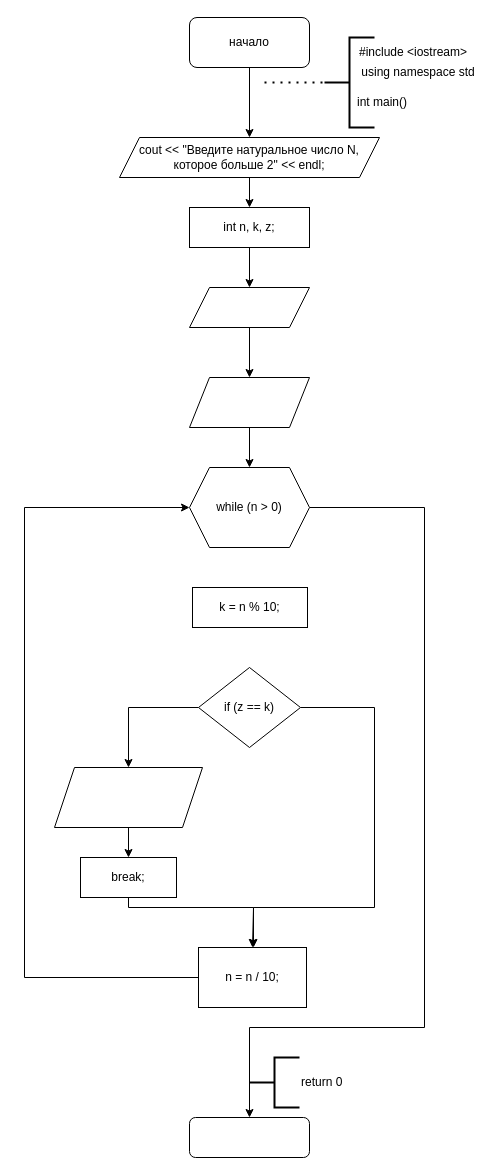
Image size: 502x1175. Some labels were removed from this diagram. The shapes that lost their labels are listed below. From the top down, each one's centre as x and y in pixels, then its label:
[249,307]: cin >> n;
[249,402]: cin >> z;
[128,797]: cout << "Да, входит.";
[249,1137]: конец
